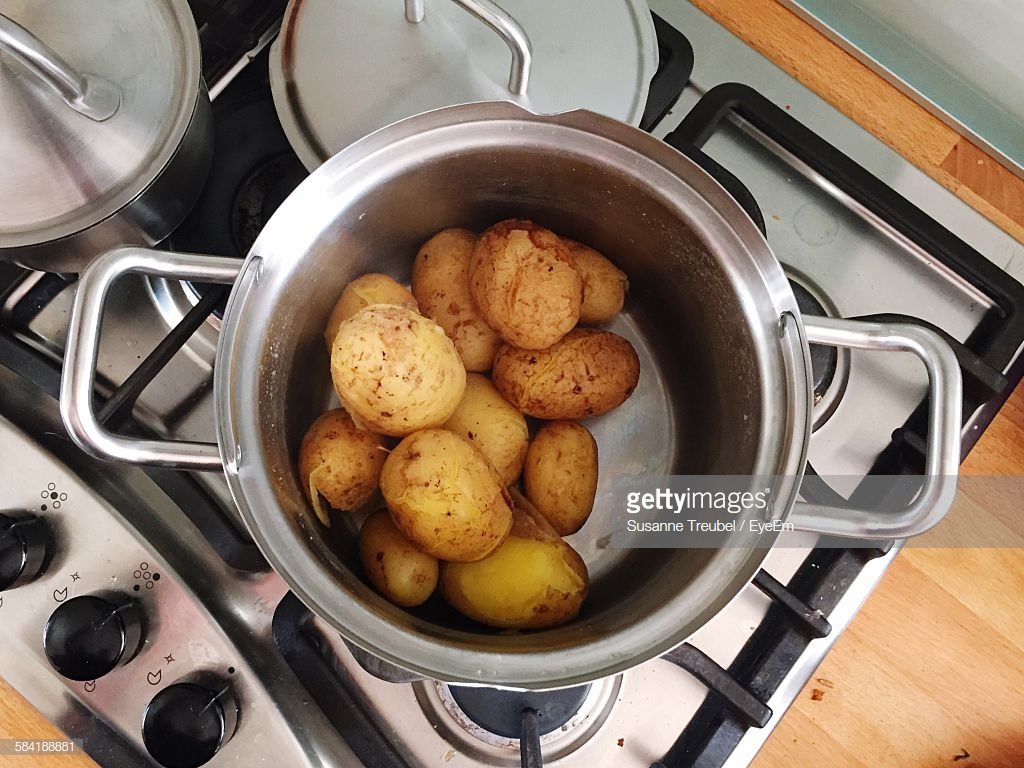boiled potatoes: (342, 294, 573, 573)
